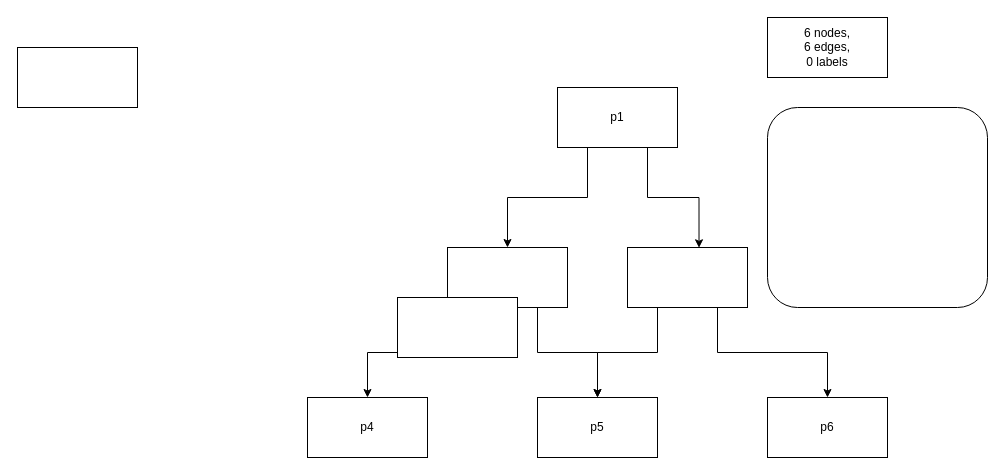
Some shapes in this 1005 by 475 pixel diagram are drawn without their labels. The box of each missing label's shape, as (x1, y1, x2, y2) in pixels:
p2: (446, 246, 568, 308)
p3: (626, 246, 748, 308)
